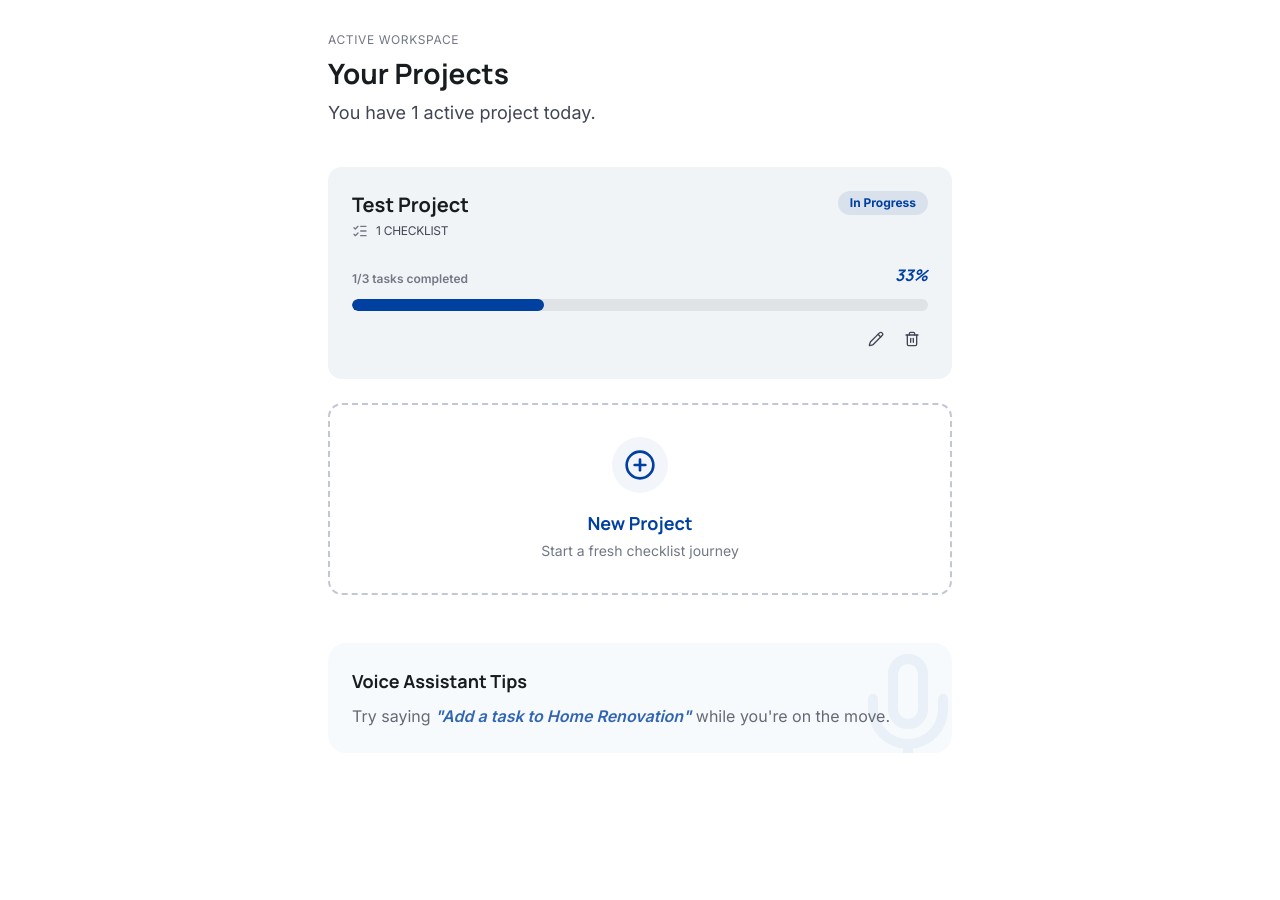
it: ProjectsPage › can open create dialog
The width and height of the screenshot is (1280, 900).
// Click the New Project button
Click the text "New Project" at (640, 523), box [587,509,693,537]
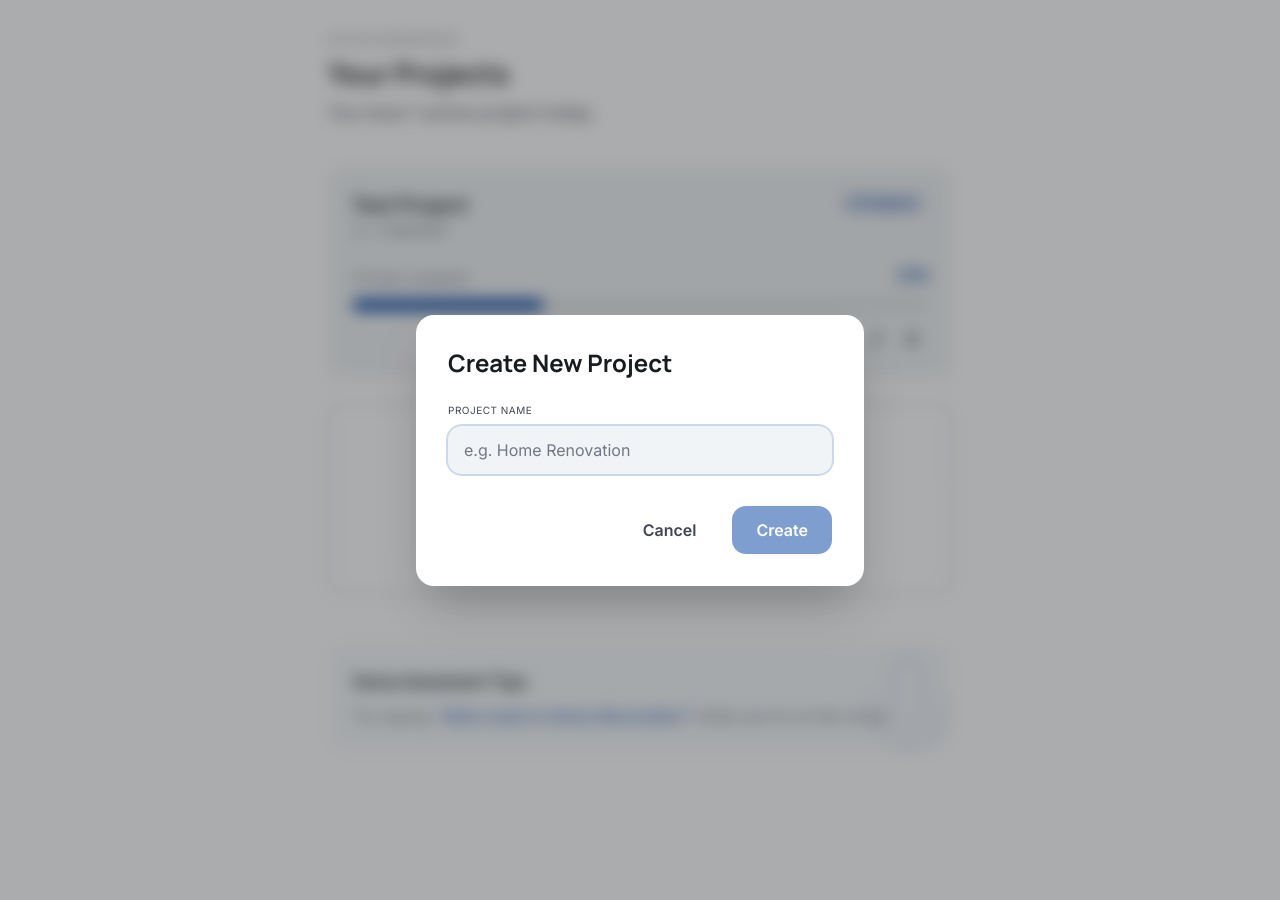
expect the heading "Create New Project" is shown: met, box [448,346,672,378]
expect the field with placeholder "e.g. Home Renovation" is shown: met, box [448,426,832,474]
